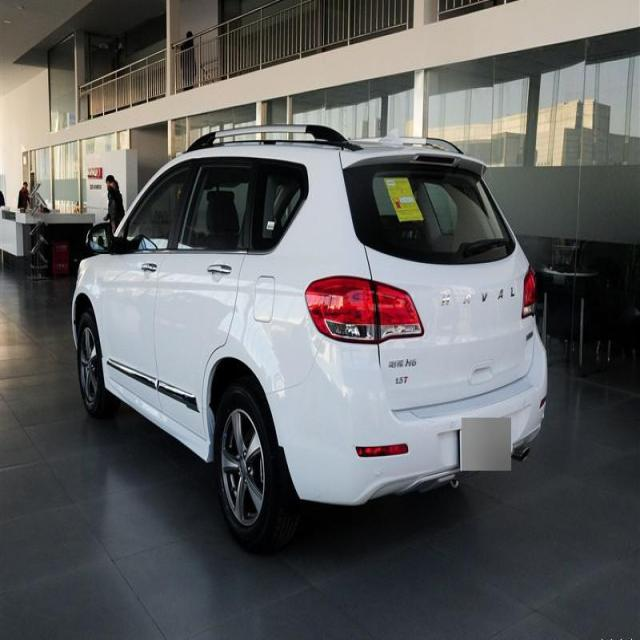back_glass: (338, 156, 518, 268)
back_left_side_light: (303, 274, 425, 346)
back_right_side_light: (521, 262, 543, 327)
door: (153, 165, 256, 428)
front_left_side_door: (94, 159, 198, 427)
front_left_side_mirror: (82, 218, 118, 255)
rear_bumper: (264, 340, 550, 509)
wheel: (213, 380, 291, 553), (75, 307, 119, 413)
